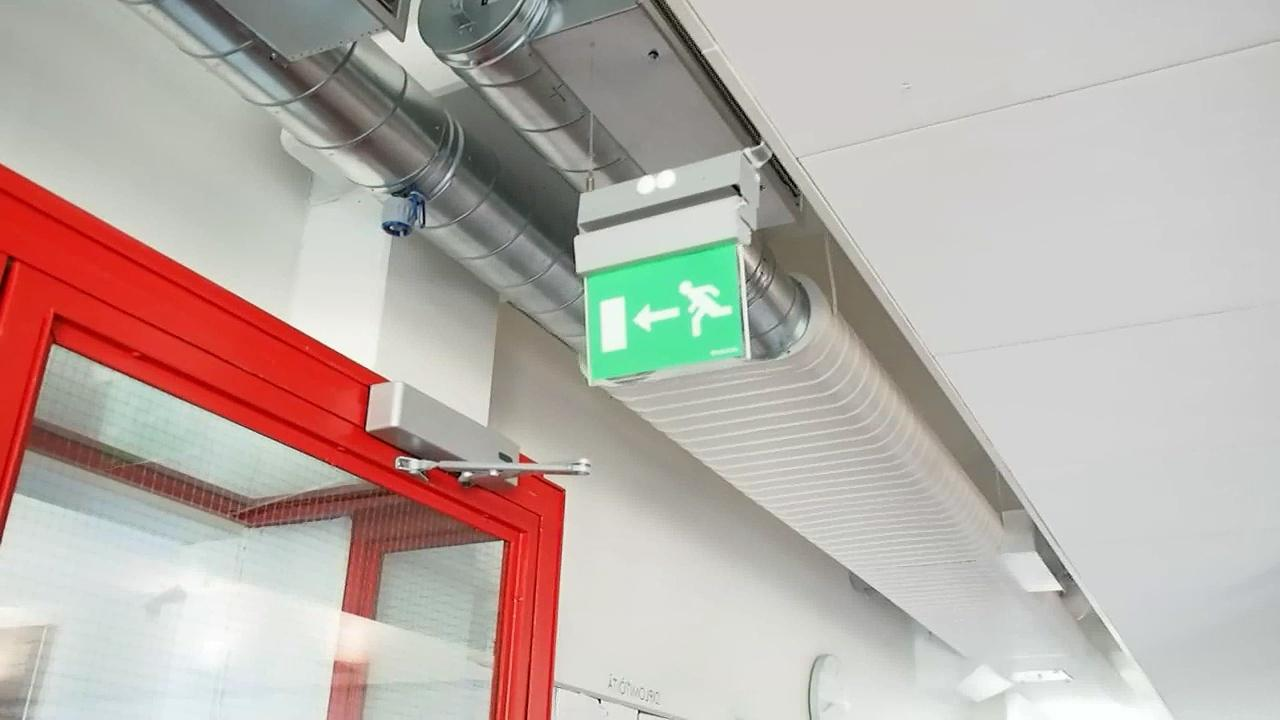exit: (584, 244, 750, 376)
